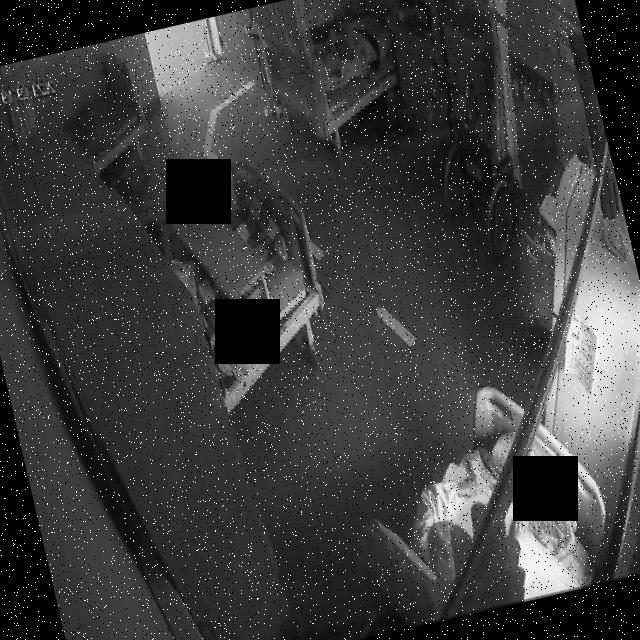bed: (346, 366, 620, 632), (160, 148, 344, 414), (258, 0, 410, 147), (52, 44, 163, 168)
